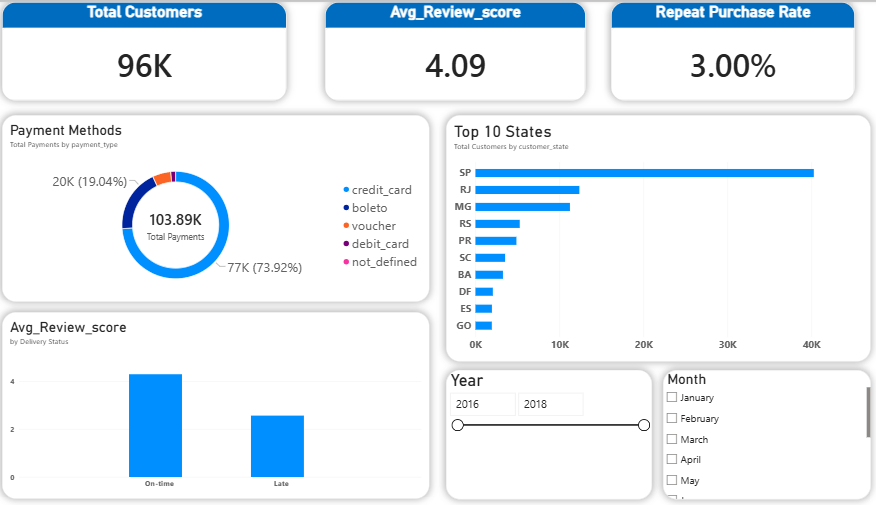

What the dashboard file says about the page in this screenshot:
{"tool":"powerbi","page":{"name":"Customers, Payments & Reviews","canvas":[1920,1080],"ordinal":3},"visuals":[{"type":"cardVisual","title":"Total Customers","fields":{"Data":["Measures (2).Total Customers"]},"box":[27.7,0,608.8,210.7],"z":0},{"type":"cardVisual","title":"Avg_Review_score","fields":{"Data":["Measures (2).Avg_Review_score"]},"box":[719.5,0,557.7,210.7],"z":1},{"type":"cardVisual","title":"Repeat Purchase Rate","fields":{"Data":["Measures (2).Repeat Purchase Rate"]},"box":[1369.1,0,521.5,210.7],"z":2},{"type":"clusteredBarChart","title":"Top 10 States","fields":{"Category":["DimCustomers.customer_state"],"Y":["Measures (2).Total Customers"]},"box":[979.2,242.7,908.9,527.9],"z":3},{"type":"donutChart","title":"Payment Methods","fields":{"Category":["FactPayments.payment_type"],"Y":["Measures (2).Total Payments"]},"box":[27.7,242.7,915.3,400.2],"z":4},{"type":"clusteredColumnChart","fields":{"Category":["FactOrders.Delivery Status"],"Y":["Measures (2).Avg_Review_score"]},"box":[27.7,664.1,915.3,400.2],"z":5},{"type":"slicer","fields":{"Values":["DimDate.Year"]},"box":[979.2,787.6,440.6,276.7],"z":6},{"type":"slicer","fields":{"Values":["DimDate.Month"]},"box":[1443.2,787.6,444.9,276.7],"z":7}]}

Visuals, with their boxes in screenshot pixels (x1, y1, x2, y2), scaled from the page's 1920x1080 canvas onto the 876x505 screenshot:
"Total Customers" cardVisual: <box>13,0,290,99</box>
"Avg_Review_score" cardVisual: <box>328,0,583,99</box>
"Repeat Purchase Rate" cardVisual: <box>625,0,863,99</box>
"Top 10 States" clusteredBarChart: <box>447,113,861,360</box>
"Payment Methods" donutChart: <box>13,113,430,301</box>
clusteredColumnChart - FactOrders.Delivery Status x Measures (2).Avg_Review_score: <box>13,311,430,498</box>
slicer - DimDate.Year: <box>447,368,648,498</box>
slicer - DimDate.Month: <box>658,368,861,498</box>
